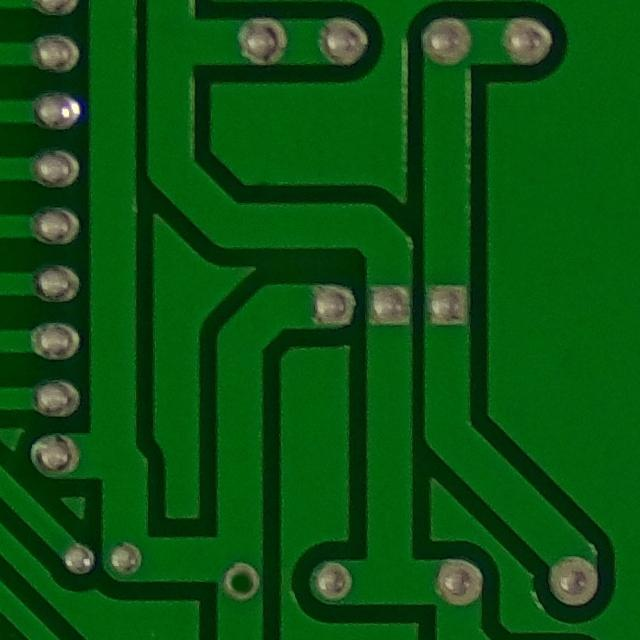missing_hole: (215, 556, 265, 609)
